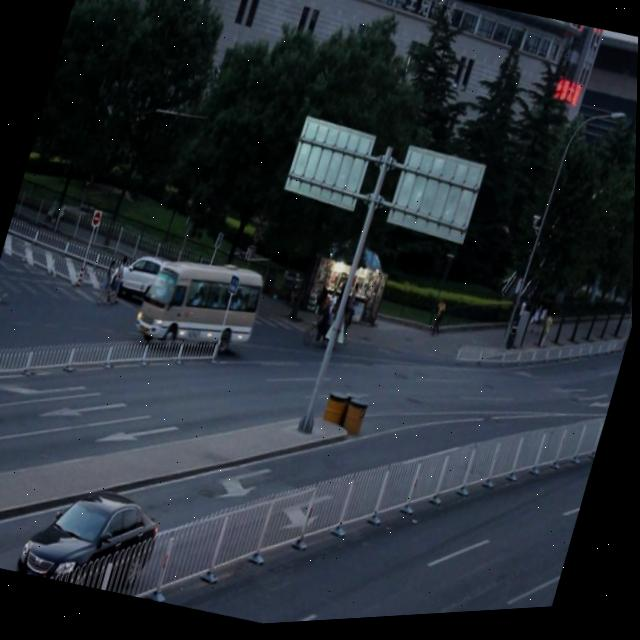car: (18, 472, 170, 605), (106, 245, 184, 316)
truck: (135, 249, 270, 363)
